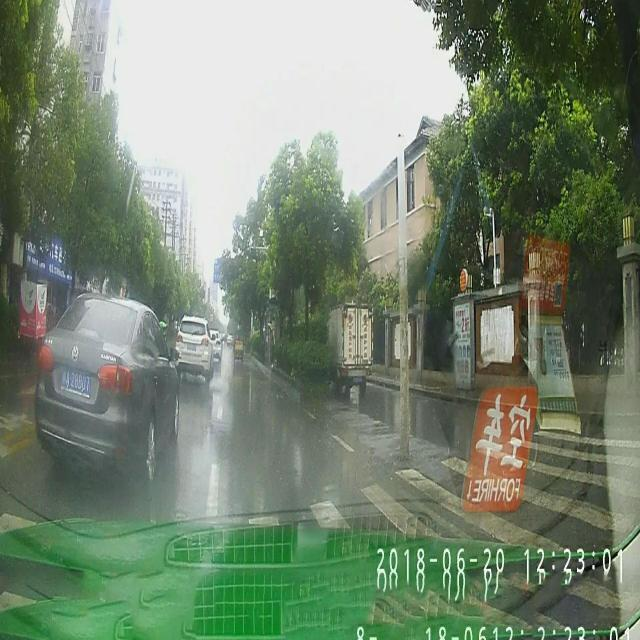car: (34, 292, 178, 482), (325, 303, 372, 398), (174, 313, 213, 384)
